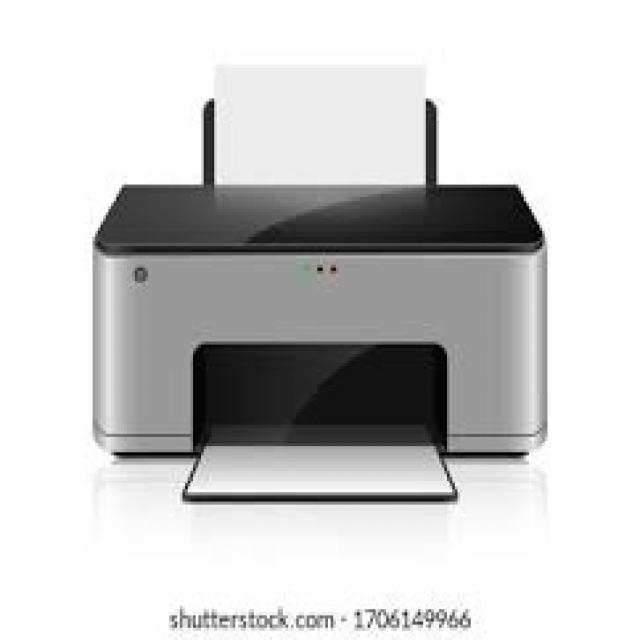printer: (77, 39, 591, 569)
